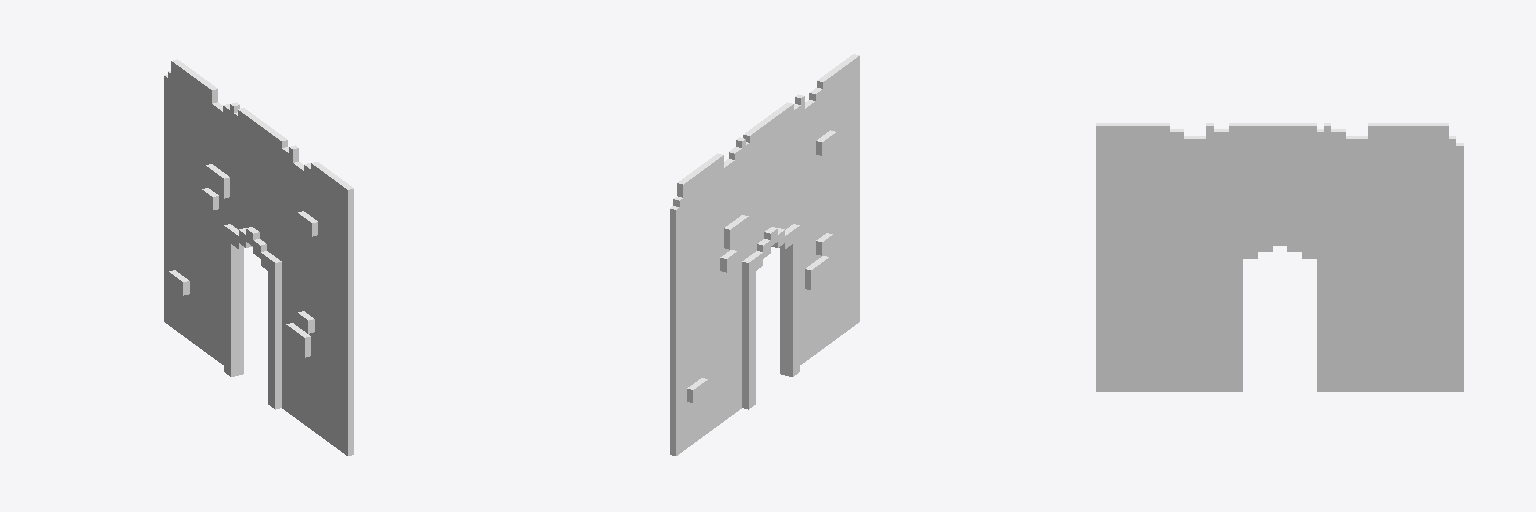
File: vox-59-Wall_Door_01.obj
The picture shows the model from 3 angles: view 1: azimuth 30°, elevation 25°; view 2: azimuth 150°, elevation 25°; view 3: azimuth 270°, elevation 25°; orthographic projection.
Visible parts, largest first — view 1: Wall_Door_01; view 2: Wall_Door_01; view 3: Wall_Door_01.
Part boxes in pixels (x1,y1,x2,y2): Wall_Door_01: (164, 59, 353, 455); Wall_Door_01: (670, 54, 859, 455); Wall_Door_01: (1096, 123, 1463, 391).
Size of the model in its own units: 0.2 by 4 by 5.